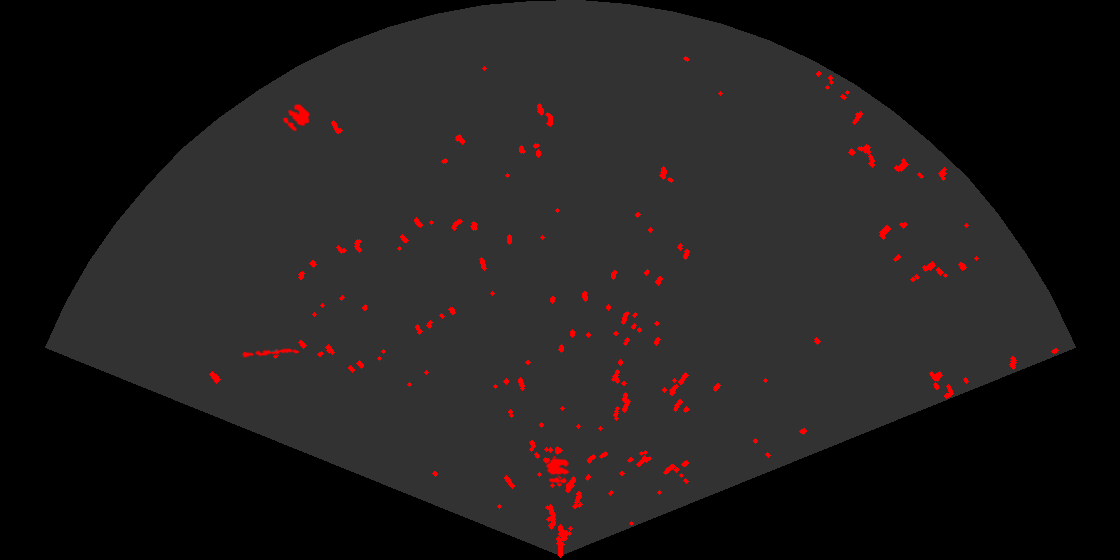ball: (281, 103, 311, 133), (545, 457, 571, 485)
chain: (241, 347, 300, 359)
